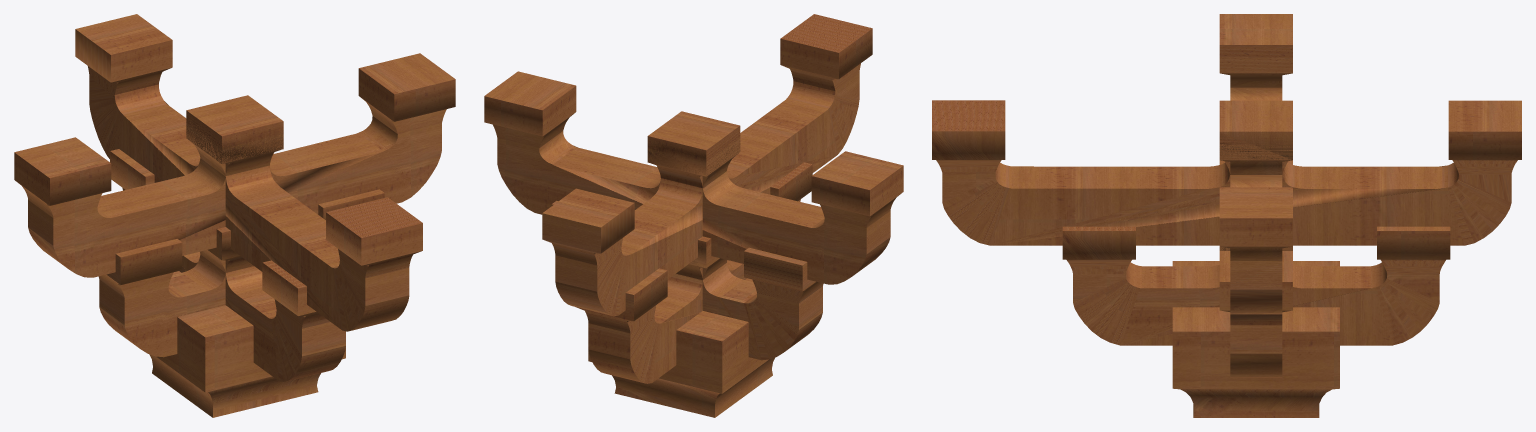
3 views of the same model, side by side, from view 1: azimuth 30°, elevation 25°; view 2: azimuth 150°, elevation 25°; view 3: azimuth 270°, elevation 25° (orthographic). The views are drawn at different scales.
Parts seen in each view (by area): view 1: R2L2; view 2: R2L2; view 3: R2L2.
Part boxes in pixels (bbox=[...]): R2L2: bbox=[14, 14, 455, 417]; R2L2: bbox=[484, 14, 903, 417]; R2L2: bbox=[932, 14, 1521, 417].
Size of the model in its own units: 37.75 by 23.75 by 46.08.
Materials: 1 (1 with a texture image).
